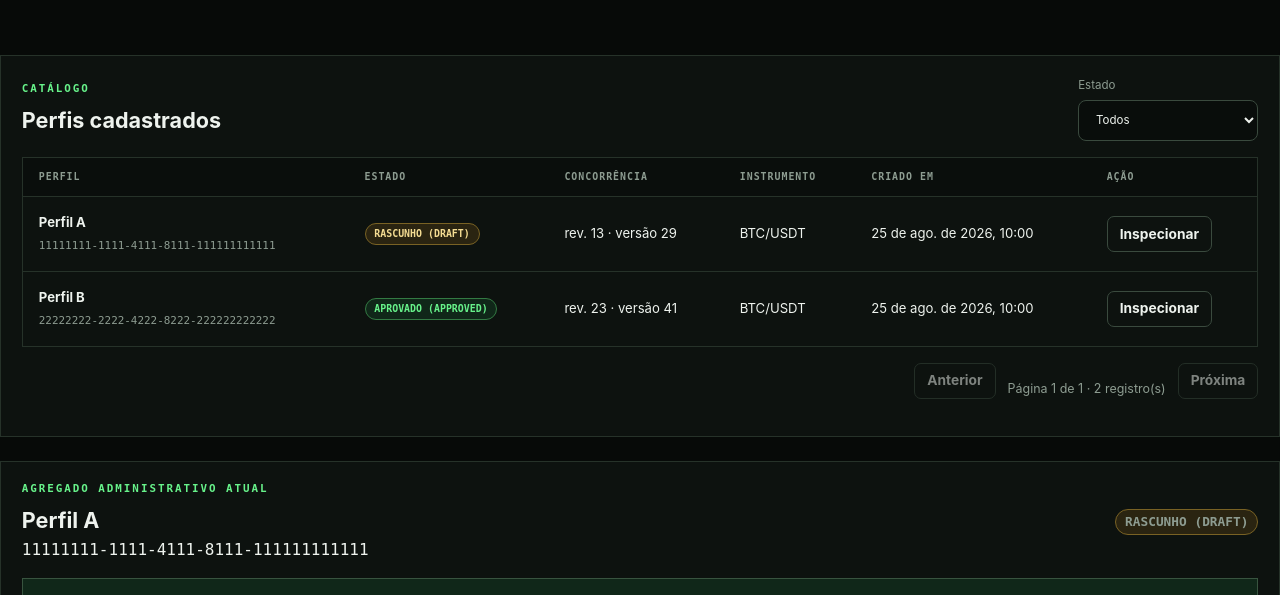
Test case: perfis administrativos de sessão paper › exibe horizonte persistido e não infere classificação para revisão legada
Expected: the heading "Perfil A" is shown, [22, 507, 99, 533]
Click the button with aria-label "Inspecionar perfil Perfil B" at (1159, 309), box [1107, 291, 1212, 327]
(page scrolled)
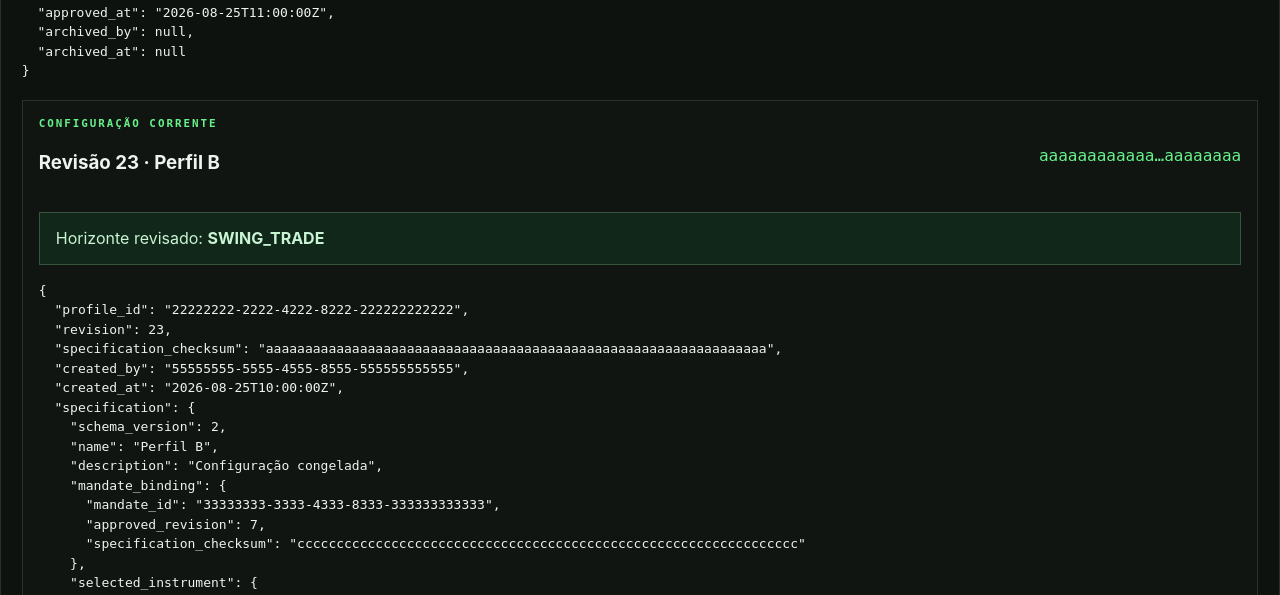
Result: the text "SWING_TRADE" is shown at [208, 228, 324, 248]
